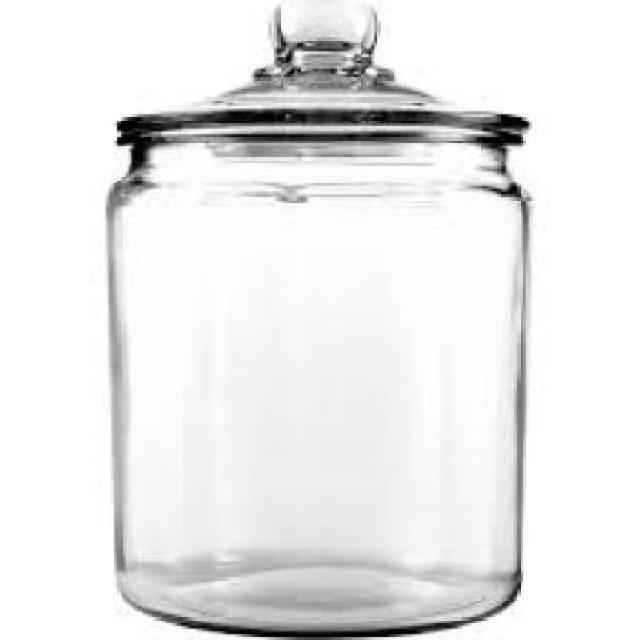GLASS: (100, 0, 526, 637)
